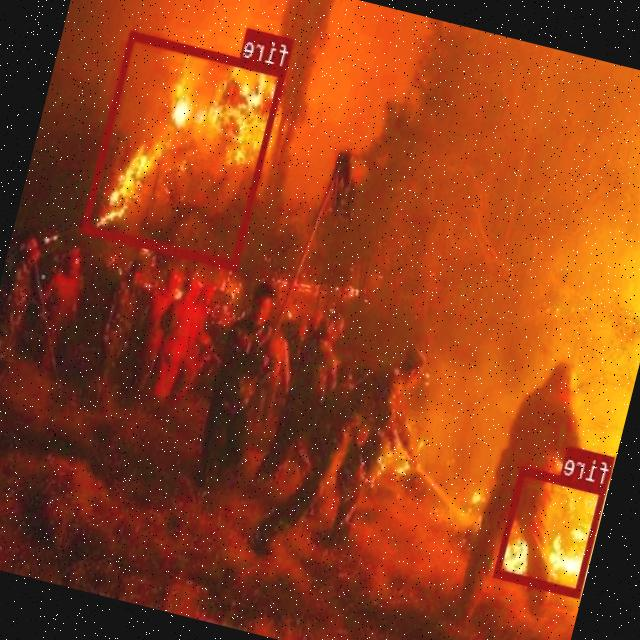fire: (81, 29, 288, 268), (494, 465, 608, 596)
